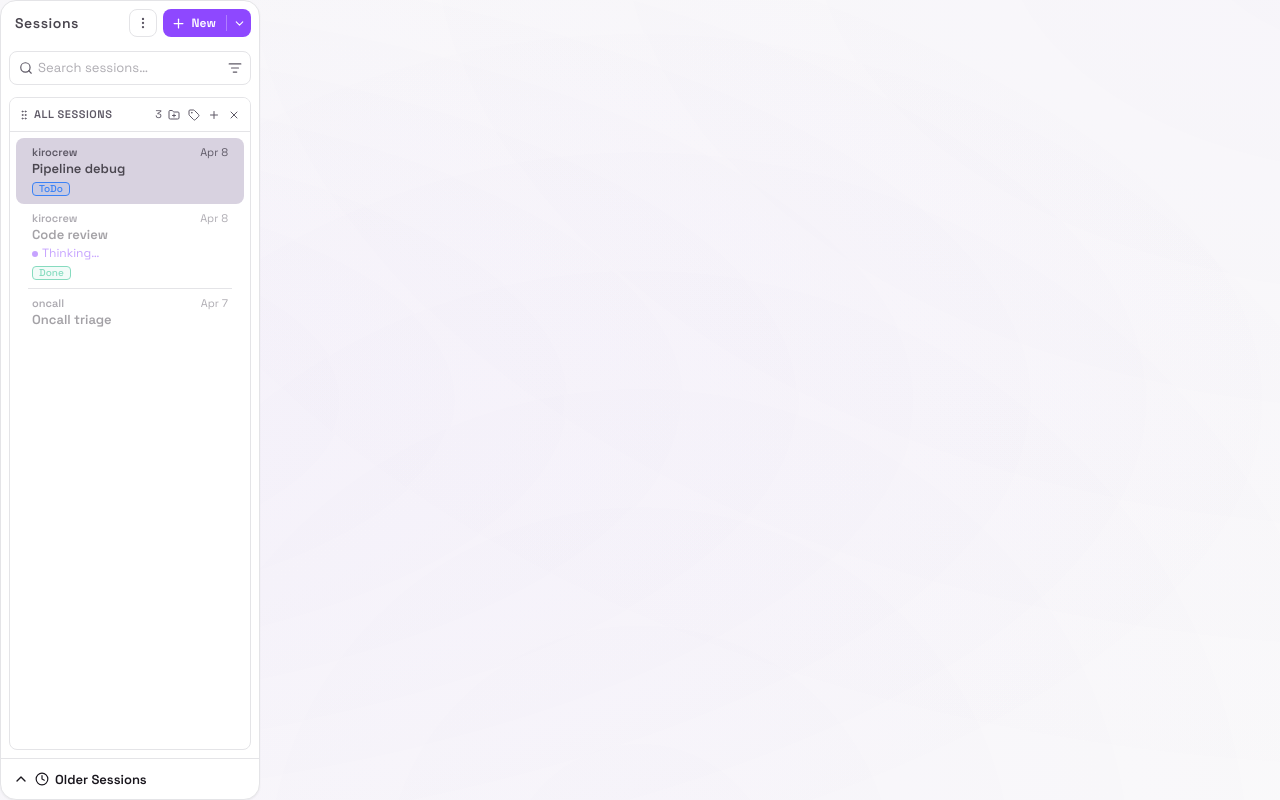
Test: ChatSidebar tag/column UI › inline tag rename commits on blur
expect the element with test id "column-c1" is shown: met, box [9, 97, 251, 750]
Click the button with test id "column-edit-c1" at (194,115), box [186, 107, 202, 123]
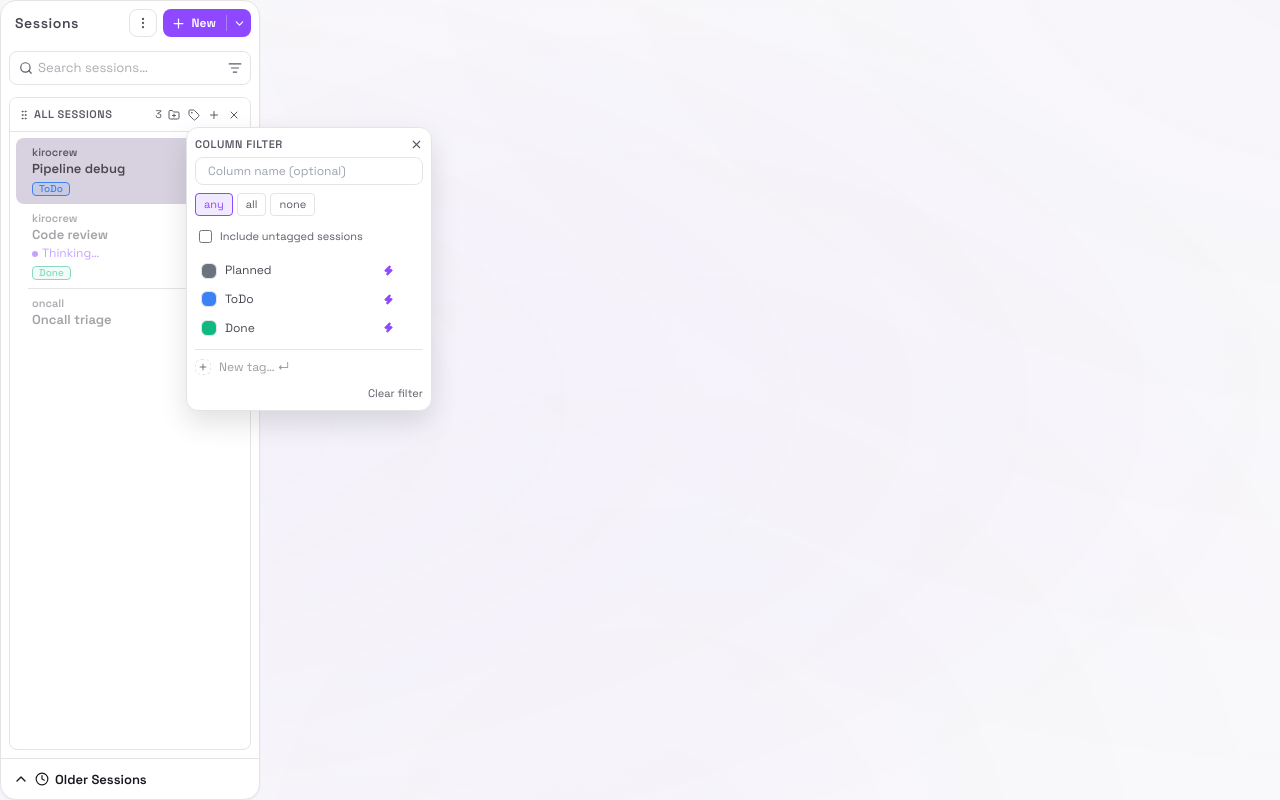
expect the field with test id "tag-name-todo" is shown: met
Replace the text in the field with test id "tag-name-todo" with "In Progress" at (299,299), box [223, 290, 375, 309]
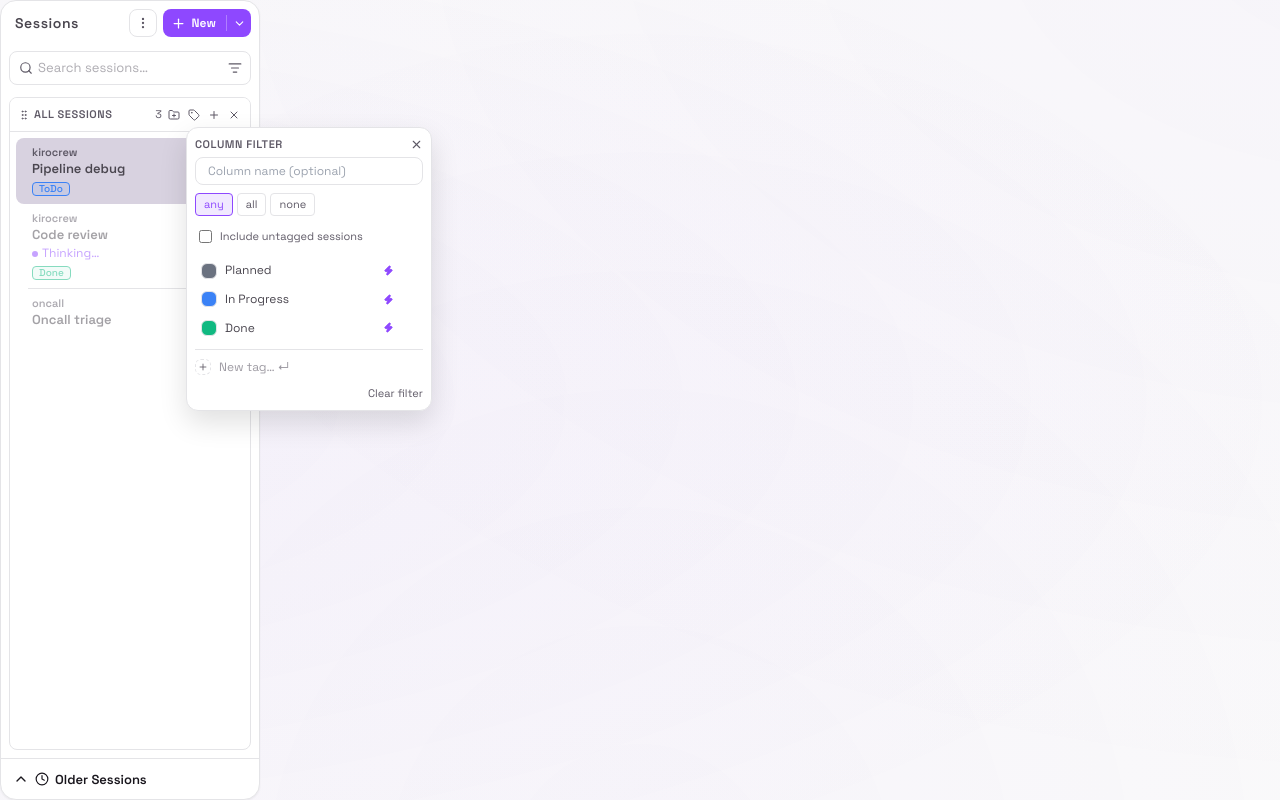
Leave the field with test id "tag-name-todo", box [223, 290, 375, 309]
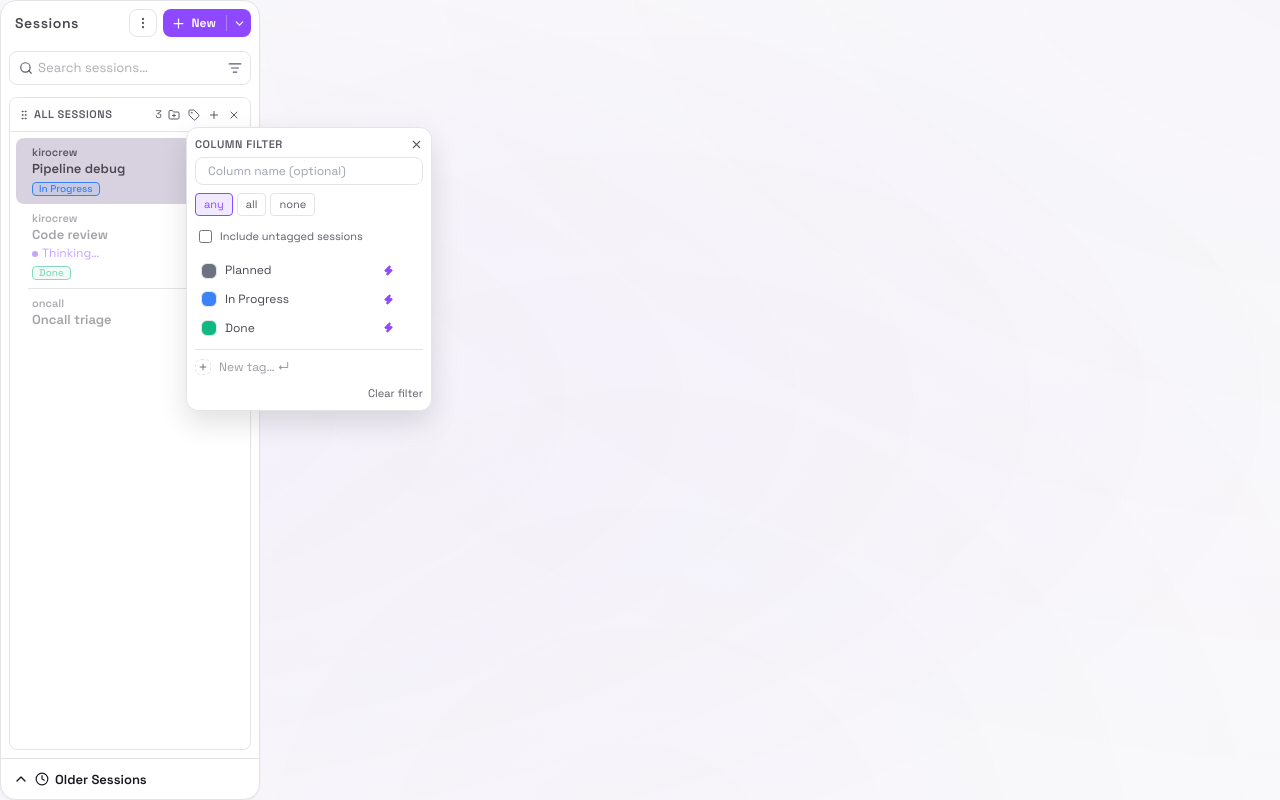
expect the text "In Progress" is shown: met, box [32, 182, 100, 196]
